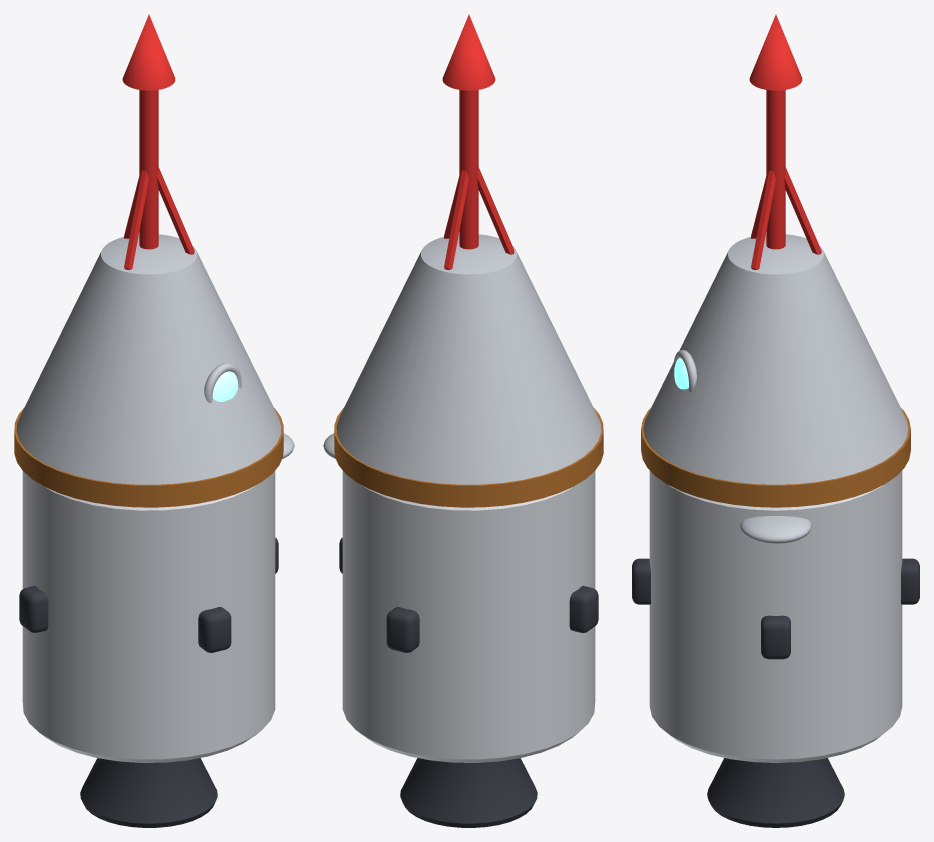
The model's file is Rocket_16_Capsule.fbx.
3 renders of one model, left to right at view 1: azimuth 30°, elevation 25°; view 2: azimuth 150°, elevation 25°; view 3: azimuth 270°, elevation 25°, orthographic.
Parts seen in each view (by area): view 1: R16_Service, R16_Capsule.001, R16_Nozzle, R16_HeatShield, R16_Tower, R16_EscapeMotor, R16_RCS_4, R16_RCS_3, R16_Truss_2, R16_Truss_3, R16_Window, R16_WindowFrame; view 2: R16_Service, R16_Capsule.001, R16_Nozzle, R16_HeatShield, R16_Tower, R16_EscapeMotor, R16_RCS_2, R16_RCS_3, R16_Truss, R16_Truss_2; view 3: R16_Service, R16_Capsule.001, R16_Nozzle, R16_HeatShield, R16_Tower, R16_EscapeMotor, R16_Dish, R16_RCS, R16_Truss_3, R16_RCS_2, R16_RCS_4, R16_Truss.
Part boxes in pixels (x1,y1,x2,y2): R16_Service: (22, 470, 275, 762); R16_Capsule.001: (16, 234, 281, 484); R16_Nozzle: (80, 758, 217, 827); R16_HeatShield: (14, 408, 283, 507); R16_Tower: (139, 90, 158, 249); R16_EscapeMotor: (122, 14, 175, 90); R16_RCS_4: (198, 607, 231, 652); R16_RCS_3: (19, 586, 48, 632); R16_Truss_2: (124, 170, 148, 269); R16_Truss_3: (157, 167, 194, 254); R16_Window: (212, 371, 238, 401); R16_WindowFrame: (204, 363, 241, 402); R16_Service: (342, 470, 595, 762); R16_Capsule.001: (336, 234, 601, 484); R16_Nozzle: (400, 758, 537, 827); R16_HeatShield: (334, 408, 603, 507); R16_Tower: (459, 90, 478, 249); R16_EscapeMotor: (442, 14, 495, 90); R16_RCS_2: (386, 607, 419, 652); R16_RCS_3: (569, 586, 598, 632); R16_Truss: (444, 170, 468, 269); R16_Truss_2: (477, 167, 514, 254); R16_Service: (649, 470, 902, 762); R16_Capsule.001: (643, 234, 908, 484); R16_Nozzle: (707, 758, 844, 827); R16_HeatShield: (641, 408, 910, 507); R16_Tower: (766, 90, 785, 249); R16_EscapeMotor: (749, 14, 802, 90); R16_Dish: (740, 516, 811, 543); R16_RCS: (761, 615, 790, 659); R16_Truss_3: (751, 170, 775, 269); R16_RCS_2: (901, 558, 919, 604); R16_RCS_4: (632, 558, 650, 604); R16_Truss: (784, 167, 821, 254).
Bounding box in the file's own units: 2.55 × 7.2 × 2.39.
